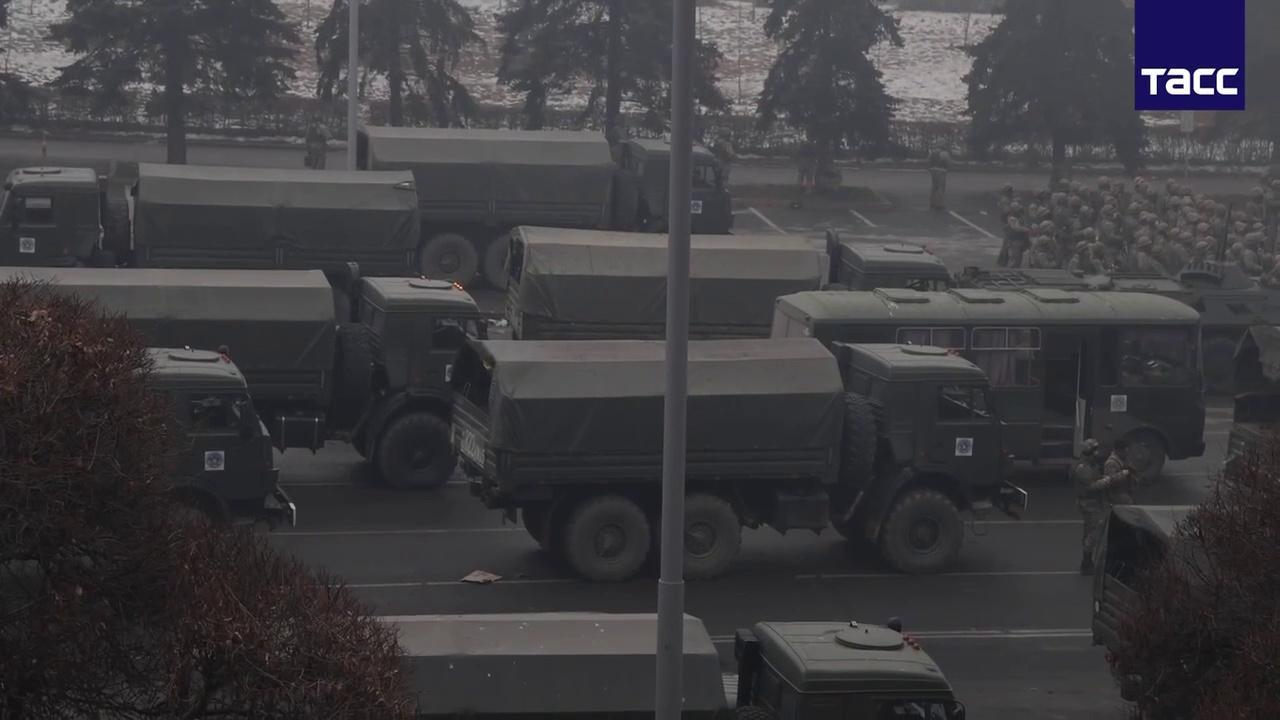person: (1072, 437, 1110, 575), (1104, 437, 1134, 516), (1006, 202, 1033, 272), (302, 110, 332, 170), (926, 138, 950, 210), (996, 182, 1016, 266), (795, 133, 821, 197), (715, 128, 736, 194)
tank: (968, 258, 1280, 386)
truck: (446, 341, 1030, 580), (0, 266, 490, 493), (323, 597, 972, 720), (354, 128, 740, 289), (501, 218, 949, 348), (0, 166, 425, 280)
